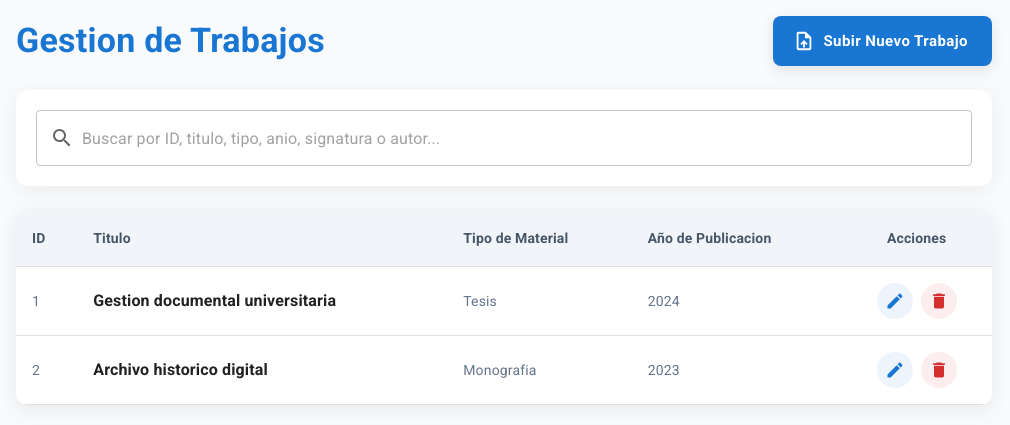
Test: GestionTrabajos › filtra trabajos desde la barra de busqueda
This screenshot has width=1010, height=425.
Check: the text "Gestion documental universitaria" is shown, box [93,291,336,310]
Check: the text "Archivo historico digital" is shown, box [93,360,268,379]
Type "historico" into the field with placeholder "Buscar por ID, titulo, tipo, anio, signatura o autor..." at (527, 138), box [82,110,972,166]
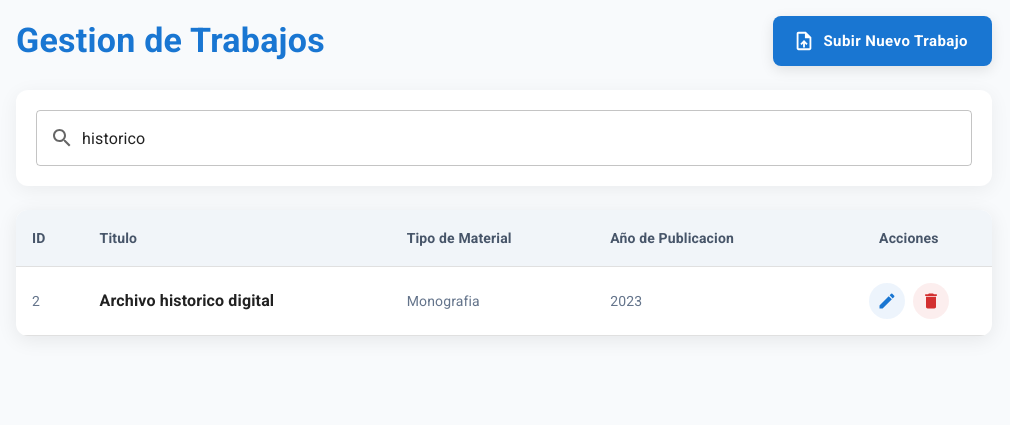
Check: the text "Archivo historico digital" is shown, box [100,291,274,310]
Check: the text "Gestion documental universitaria" is gone
